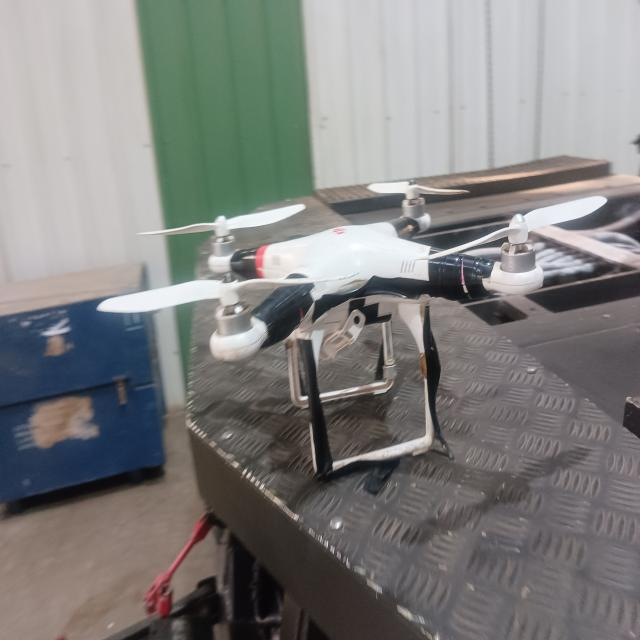drone: (93, 169, 640, 505)
